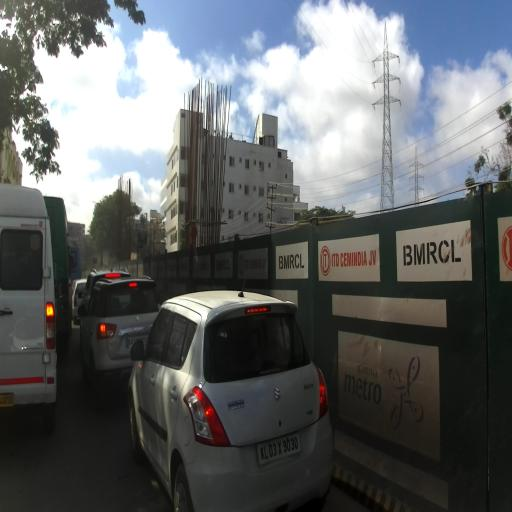street_light_0: (92, 201, 105, 210), (83, 236, 93, 239)
